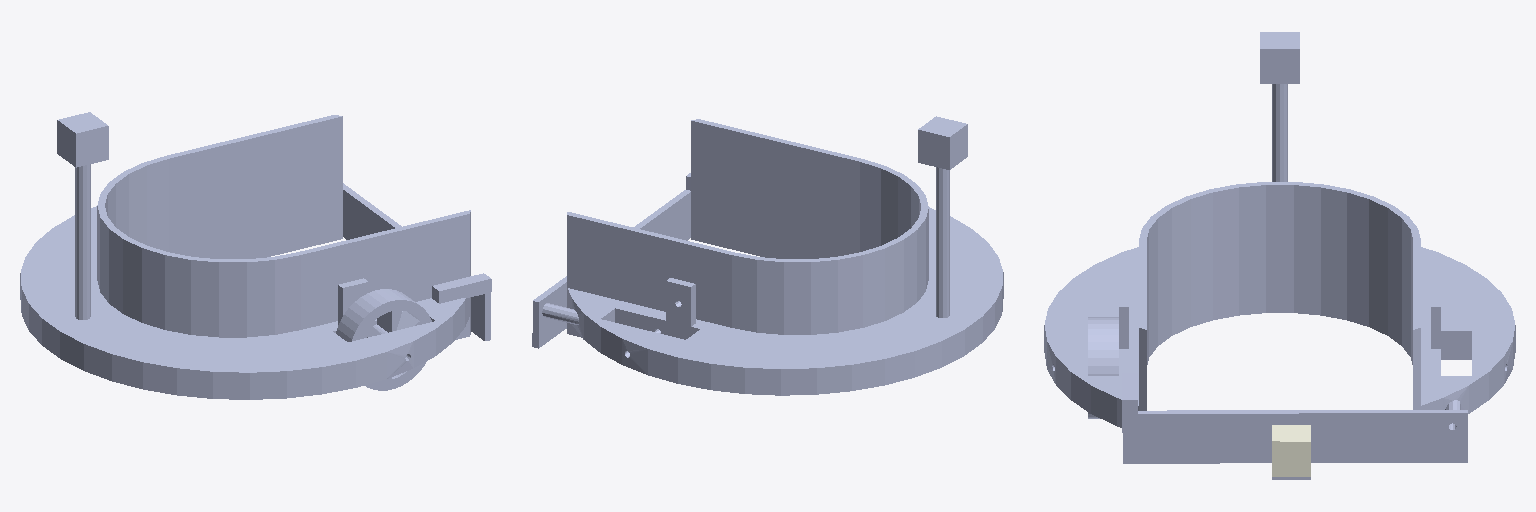
URDF robot description (area55):
<?xml version="1.0" encoding="utf-8"?>
<!-- This URDF was automatically created by SolidWorks to URDF Exporter! Originally created by [author] ([email redacted]) 
     Commit Version: 1.6.0-1-g15f4949  Build Version: 1.6.7594.29634
     For more information, please see http://wiki.ros.org/sw_urdf_exporter -->
<robot
  name="area55">
  <link
    name="base_link">
    <inertial>
      <origin
        xyz="-0.065009 0.00037769 0.034384"
        rpy="0 0 0" />
      <mass
        value="5" />
      <inertia
        ixx="0.22816"
        ixy="-0.0007158"
        ixz="-0.0020332"
        iyy="0.13923"
        iyz="3.5333E-05"
        izz="0.3473" />
    </inertial>
    <visual>
      <origin
        xyz="0 0 0"
        rpy="0 0 0" />
      <geometry>
        <mesh
          filename="package://area55/meshes/base_link.STL" />
      </geometry>
      <material
        name="">
        <color
          rgba="0.79216 0.81961 0.93333 1" />
      </material>
    </visual>
    <collision>
      <origin
        xyz="0 0 0"
        rpy="0 0 0" />
      <geometry>
        <mesh
          filename="package://area55/meshes/base_link.STL" />
      </geometry>
    </collision>
  </link>
  <link
    name="L_link">
    <inertial>
      <origin
        xyz="0.02 0 -1.3878E-17"
        rpy="0 0 0" />
      <mass
        value="3" />
      <inertia
        ixx="0.00086187"
        ixy="-7.0046E-20"
        ixz="-8.4808E-20"
        iyy="0.00047589"
        iyz="-1.2197E-19"
        izz="0.00047589" />
    </inertial>
    <visual>
      <origin
        xyz="0 0 0"
        rpy="0 0 0" />
      <geometry>
        <mesh
          filename="package://area55/meshes/L_link.STL" />
      </geometry>
      <material
        name="">
        <color
          rgba="0.79216 0.81961 0.93333 1" />
      </material>
    </visual>
    <collision>
      <origin
        xyz="0 0 0"
        rpy="0 0 0" />
      <geometry>
        <mesh
          filename="package://area55/meshes/L_link.STL" />
      </geometry>
    </collision>
  </link>
  <joint
    name="L_joint"
    type="continuous">
    <origin
      xyz="0.082504 0.205 0.02"
      rpy="2.5634 0 1.5708" />
    <parent
      link="base_link" />
    <child
      link="L_link" />
    <axis
      xyz="1 0 0" />
  </joint>
  <link
    name="R_link">
    <inertial>
      <origin
        xyz="-0.02 0 0"
        rpy="0 0 0" />
      <mass
        value="3" />
      <inertia
        ixx="0.00086187"
        ixy="-6.3145E-20"
        ixz="-8.8244E-20"
        iyy="0.00047589"
        iyz="1.3553E-20"
        izz="0.00047589" />
    </inertial>
    <visual>
      <origin
        xyz="0 0 0"
        rpy="0 0 0" />
      <geometry>
        <mesh
          filename="package://area55/meshes/R_link.STL" />
      </geometry>
      <material
        name="">
        <color
          rgba="0.79216 0.81961 0.93333 1" />
      </material>
    </visual>
    <collision>
      <origin
        xyz="0 0 0"
        rpy="0 0 0" />
      <geometry>
        <mesh
          filename="package://area55/meshes/R_link.STL" />
      </geometry>
    </collision>
  </link>
  <joint
    name="R_joint"
    type="continuous">
    <origin
      xyz="0.082504 -0.205 0.02"
      rpy="2.2586 0 1.5708" />
    <parent
      link="base_link" />
    <child
      link="R_link" />
    <axis
      xyz="1 0 0" />
  </joint>
  <link
    name="castor_link">
    <inertial>
      <origin
        xyz="0 2.7756E-17 2.7756E-17"
        rpy="0 0 0" />
      <mass
        value="1" />
      <inertia
        ixx="0.00012425"
        ixy="0"
        ixz="-6.7763E-21"
        iyy="0.00012425"
        iyz="0"
        izz="0.00012425" />
    </inertial>
    <visual>
      <origin
        xyz="0 0 0"
        rpy="0 0 0" />
      <geometry>
        <mesh
          filename="package://area55/meshes/castor_link.STL" />
      </geometry>
      <material
        name="">
        <color
          rgba="0.79216 0.81961 0.93333 1" />
      </material>
    </visual>
    <collision>
      <origin
        xyz="0 0 0"
        rpy="0 0 0" />
      <geometry>
        <mesh
          filename="package://area55/meshes/castor_link.STL" />
      </geometry>
    </collision>
  </link>
  <joint
    name="castor_joint"
    type="continuous">
    <origin
      xyz="-0.25 0 0"
      rpy="1.9804 0.71349 -0.61193" />
    <parent
      link="base_link" />
    <child
      link="castor_link" />
    <axis
      xyz="0.43433 0.67086 0.60109" />
    <dynamics
      damping="0"
      friction="0" />
  </joint>

  <gazebo>

    <plugin filename="libgazebo_ros_diff_drive.so" name="differential_drive_controller">

      <legacyMode>false</legacyMode>

      <alwaysOn>true</alwaysOn>

      <updateRate>20</updateRate>

      <leftJoint>L_joint</leftJoint>

      <rightJoint>R_joint</rightJoint>

      <wheelSeparation>0.41</wheelSeparation>

      <wheelDiameter>0.13</wheelDiameter>

      <torque>5</torque>

      <commandTopic>cmd_vel</commandTopic>

      <odometryTopic>odom</odometryTopic>

      <odometryFrame>odom</odometryFrame>

      <robotBaseFrame>base_link</robotBaseFrame>

    </plugin>

  </gazebo>

  <link
    name="grip_link">
    <inertial>
      <origin
        xyz="-0.22027 -0.01404 0.072882"
        rpy="0 0 0" />
      <mass
        value="0.8" />
      <inertia
        ixx="0.00026962"
        ixy="0.0002465"
        ixz="-0.00021898"
        iyy="0.00629"
        iyz="5.9108E-05"
        izz="0.0064174" />
    </inertial>
    <visual>
      <origin
        xyz="0 0 0"
        rpy="0 0 0" />
      <geometry>
        <mesh
          filename="package://area55/meshes/grip_link.STL" />
      </geometry>
      <material
        name="">
        <color
          rgba="0.79216 0.81961 0.93333 1" />
      </material>
    </visual>
    <collision>
      <origin
        xyz="0 0 0"
        rpy="0 0 0" />
      <geometry>
        <mesh
          filename="package://area55/meshes/grip_link.STL" />
      </geometry>
    </collision>
  </link>
  <joint
    name="grip_joint"
    type="revolute">
    <origin
      xyz="0.181 0.22 0.02"
      rpy="1.5708 0.0033621 1.5708" />
    <parent
      link="base_link" />
    <child
      link="grip_link" />
    <axis
      xyz="0 0 -1" />
    <limit
      lower="0"
      upper="1.7"
      effort="3000"
      velocity="0.8" />
    <dynamics
      damping="0"
      friction="0" />
  </joint>



  <link
    name="scan_link">
    <inertial>
      <origin
        xyz="-5.5511E-17 0.025 -6.9389E-18"
        rpy="0 0 0" />
      <mass
        value="0.1" />
      <inertia
        ixx="5.2083E-05"
        ixy="4.9287E-21"
        ixz="-2.9023E-21"
        iyy="5.2083E-05"
        iyz="6.6042E-21"
        izz="5.2083E-05" />
    </inertial>
    <visual>
      <origin
        xyz="0 0 0"
        rpy="0 0 0" />
      <geometry>
        <box size="0.05 0.05 0.05"/>
      </geometry>
      <material
        name="">
        <color
          rgba="2 1 0.93333 1" />
      </material>
    </visual>
    <collision>
      <origin
        xyz="0 0 0"
        rpy="0 0 0" />
      <geometry>
        <mesh
          filename="package://area55/meshes/scan_link.STL" />
      </geometry>
    </collision>
  </link>
  <joint
    name="scan_joint"
    type="fixed">
    <origin
      xyz="-0.20534 -0.0230 0.105"
      rpy="3.1356 -1.5708 -1.5708" />
    <parent
      link="grip_link" />
    <child
      link="scan_link" />
    <axis
      xyz="0 0 0" />
  </joint>
  <link
    name="photo_link">
    <inertial>
      <origin
        xyz="0 0.025 -5.9292E-19"
        rpy="0 0 0" />
      <mass
        value="0.1" />
      <inertia
        ixx="5.2083E-05"
        ixy="-7.5668E-22"
        ixz="-6.2116E-22"
        iyy="5.2083E-05"
        iyz="1.4117E-21"
        izz="5.2083E-05" />
    </inertial>
    <visual>
      <origin
        xyz="0 0 0"
        rpy="0 0 0" />
      <geometry>
        <box size="0.05 0.05 0.05"/>
      </geometry>
      <material
        name="">
        <color
          rgba="0.79216 0.81961 0.93333 1" />
      </material>
    </visual>
    <collision>
      <origin
        xyz="0 0 0"
        rpy="0 0 0" />
      <geometry>
        <mesh
          filename="package://area55/meshes/photo_link.STL" />
      </geometry>
    </collision>
  </link>
  <joint
    name="photo_joint"
    type="fixed">
    <origin
      xyz="-0.25 0 0.3"
      rpy="1.5708 0 0" />
    <parent
      link="base_link" />
    <child
      link="photo_link" />
    <axis
      xyz="0 0 0" />
  </joint>

  <gazebo>
    <plugin name="gazebo_ros_control" filename="libgazebo_ros_control.so">
      <robotNamespace>/area55</robotNamespace>
      <robotSimType>gazebo_ros_control/DefaultRobotHWSim</robotSimType>
      <legacyModeNS>true</legacyModeNS>
    </plugin>
  </gazebo>

  <!-- transmission -->
  <transmission name="base_to_second_trans">
    <type>transmission_interface/SimpleTransmission</type>
    <actuator name="motor1">
      <mechanicalReduction>1</mechanicalReduction>
    </actuator>
    <joint name="grip_joint">
      <hardwareInterface>PositionJointInterface</hardwareInterface>
    </joint>
  </transmission>


  <gazebo reference="photo_link">
    <sensor type="camera" name="camera1">
      <update_rate>30.0</update_rate>
      <camera name="head">
        <horizontal_fov>1.3962634</horizontal_fov>
        <image>
          <width>800</width>
          <height>800</height>
          <format>R8G8B8</format>
        </image>
        <clip>
          <near>0.02</near>
          <far>300</far>
        </clip>
        <noise>
          <type>gaussian</type>
          <!-- Noise is sampled independently per pixel on each frame.
               That pixel's noise value is added to each of its color
               channels, which at that point lie in the range [0,1]. -->
          <mean>0.0</mean>
          <stddev>0.007</stddev>
        </noise>
      </camera>
      <plugin name="camera_controller" filename="libgazebo_ros_camera.so">
        <alwaysOn>true</alwaysOn>
        <updateRate>0.0</updateRate>
        <cameraName>robot/camera1</cameraName>
        <imageTopicName>image_raw</imageTopicName>
        <cameraInfoTopicName>camera_info</cameraInfoTopicName>
        <frameName>photo_link</frameName>
        <hackBaseline>0.07</hackBaseline>
        <distortionK1>0.0</distortionK1>
        <distortionK2>0.0</distortionK2>
        <distortionK3>0.0</distortionK3>
        <distortionT1>0.0</distortionT1>
        <distortionT2>0.0</distortionT2>
      </plugin>
    </sensor>
  </gazebo>

  <gazebo reference="scan_link">

    <material>Gazebo/Blue</material>

	    <sensor name="head_hokuyo_sensor" type="ray">

	      <pose>0.05 0 0 0 0 0</pose>

	      <visualize>true</visualize>

	      <update_rate>40</update_rate>

	      <ray>

	        <scan>

	          <horizontal>

	            <samples>720</samples>

	            <resolution>1</resolution>

	            <min_angle>-0.0349066</min_angle>

	            <max_angle>0.0349066</max_angle>

	          </horizontal>

	        </scan>

	        <range>

	          <min>0.10</min>

	          <max>10.0</max>

	          <resolution>0.001</resolution>

	        </range>

	      </ray>

	      <plugin filename="libgazebo_ros_laser.so" name="gazebo_ros_head_hokuyo_controller">

	        <topicName>/scan</topicName>

	        <frameName>scan_link</frameName>

	      </plugin>

	    </sensor>

  	</gazebo>

</robot>

--- Render facts (derived) ---
The picture shows the robot from 3 angles, left to right: view 1: azimuth 30°, elevation 25°; view 2: azimuth 150°, elevation 25°; view 3: azimuth 270°, elevation 25°; orthographic projection.
Model area55 with 7 links and 6 joints (1 revolute, 3 continuous, 2 fixed), rooted at base_link, posed every joint at zero.
Visible links, largest first — view 1: base_link, grip_link, R_link, photo_link; view 2: base_link, grip_link, photo_link; view 3: base_link, grip_link, photo_link, scan_link, R_link.
Boxes of the visible links, x1,y1,x2,y2 form: base_link: (20,115,470,399); grip_link: (343,183,491,340); R_link: (336,289,431,390); photo_link: (57,112,108,167); base_link: (542,119,1003,395); grip_link: (532,173,690,348); photo_link: (918,116,967,169); base_link: (1044,84,1515,427); grip_link: (1122,373,1467,479); photo_link: (1260,32,1299,83); scan_link: (1272,425,1310,476); R_link: (1088,317,1118,418).
Size in the robot's own frame: 0.61 by 0.5999 by 0.3699 metres.
Meshes: 5 distinct files referenced, 3 mesh visuals loaded (3 binary STL); not drawn: 2 (reference not matched to a file when rendering).
